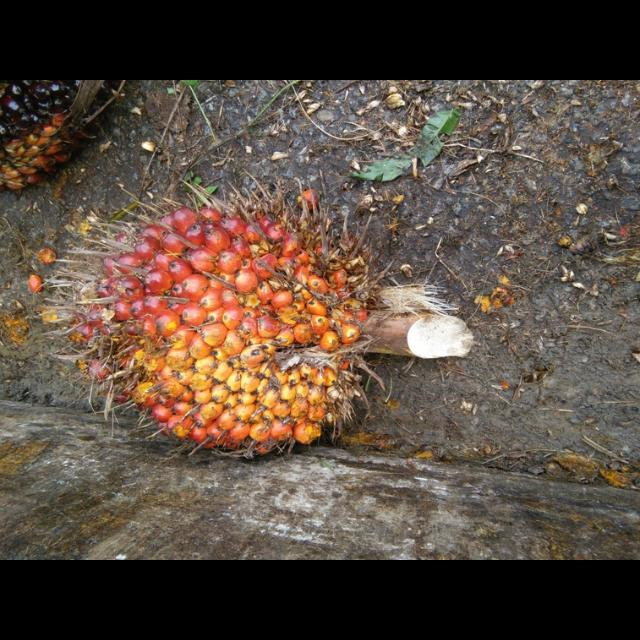Ripe: (71, 198, 375, 463)
